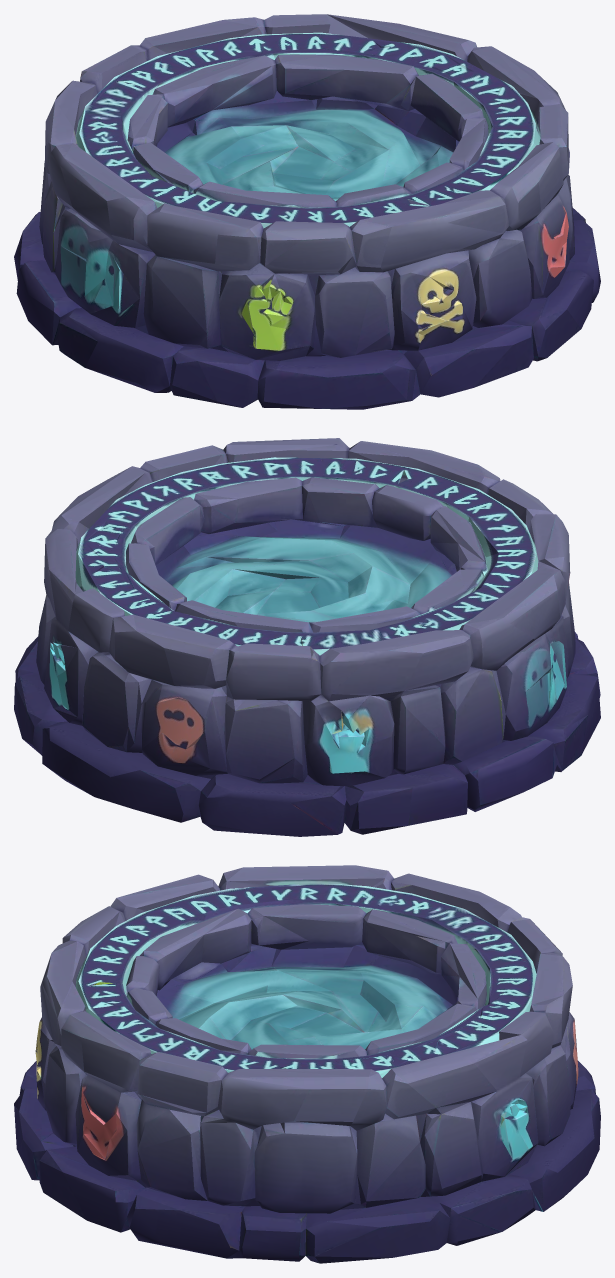
Rendered from portal_ghosts.glb.
3 views of the same model, one above another, from view 1: azimuth 30°, elevation 25°; view 2: azimuth 150°, elevation 25°; view 3: azimuth 270°, elevation 25° (orthographic).
Bounding box in the file's own units: 1.9 × 0.6115 × 1.9.
Materials: 1 (1 with a texture image).
